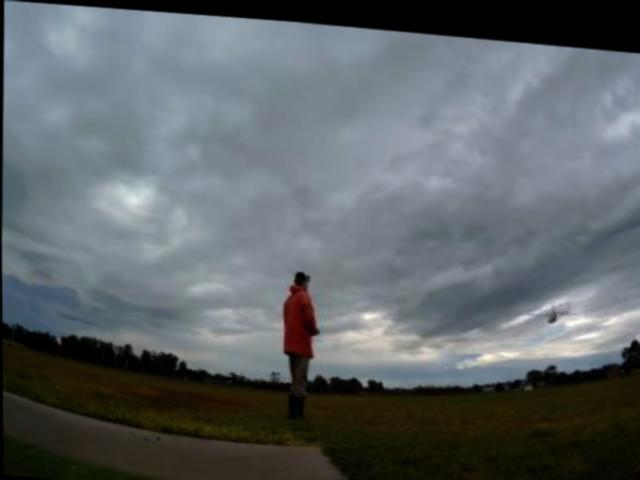uav: (521, 287, 578, 317)
